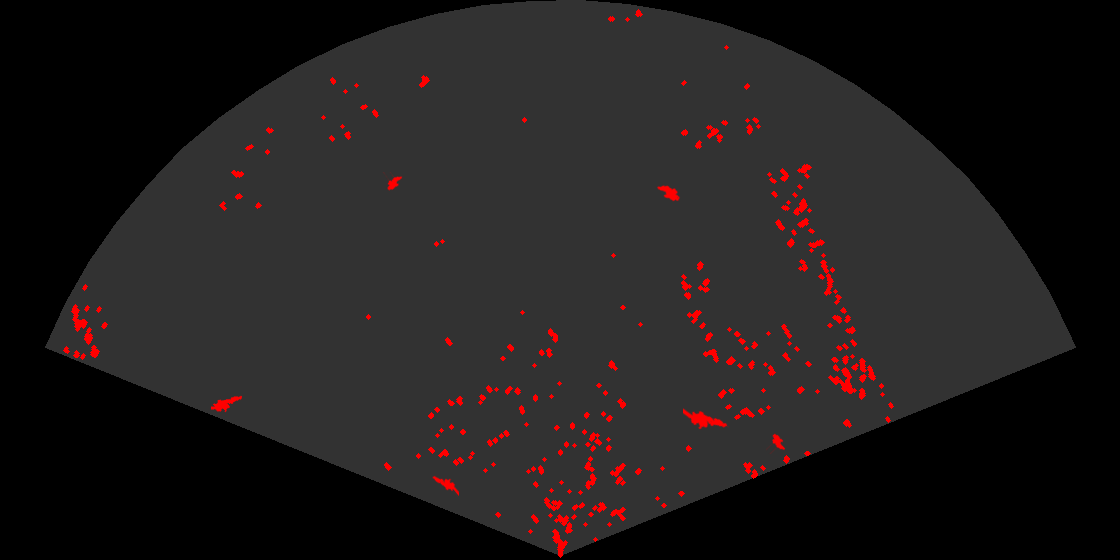AUV: (655, 184, 682, 203), (766, 432, 787, 454), (382, 172, 404, 192)
frogman: (683, 407, 729, 431), (431, 474, 459, 497), (211, 394, 242, 414)
